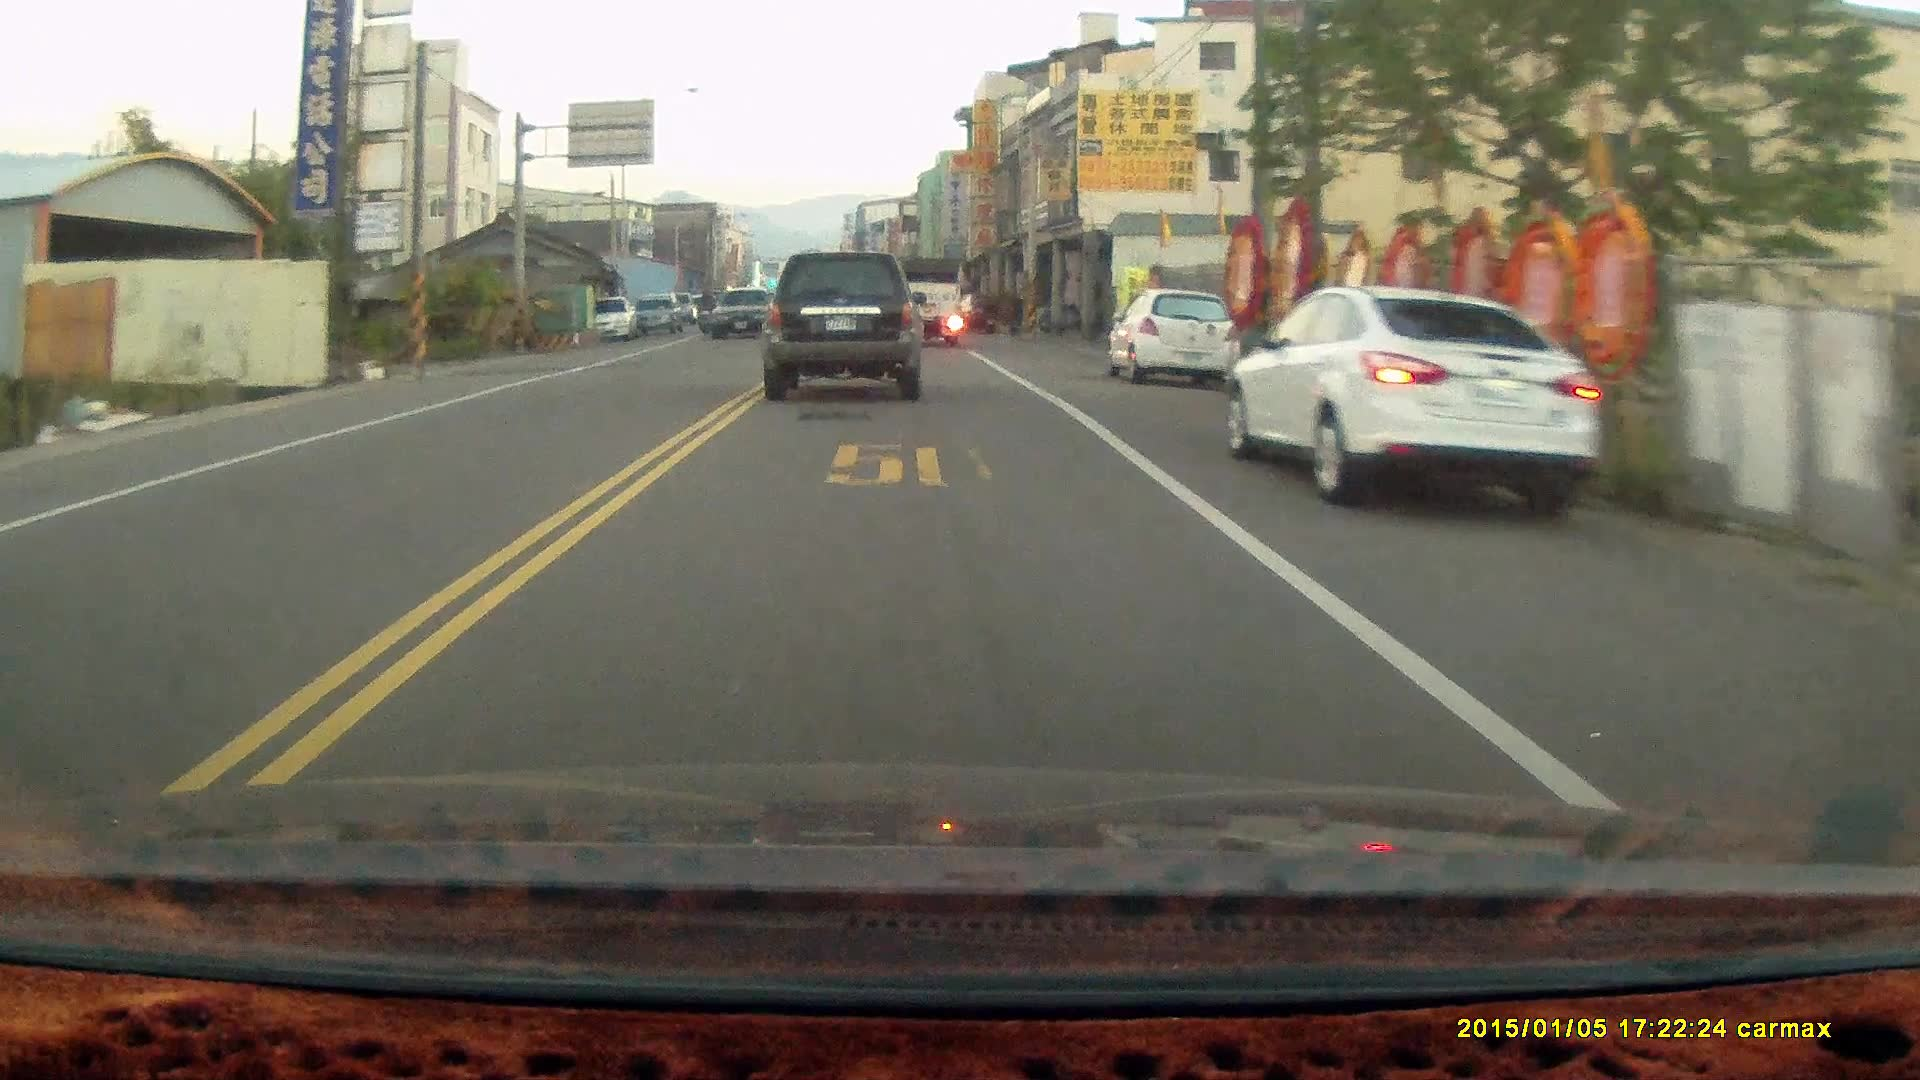vehicle: (1228, 284, 1607, 506), (760, 252, 924, 402), (1105, 287, 1245, 393), (889, 258, 965, 352), (711, 287, 779, 343)
